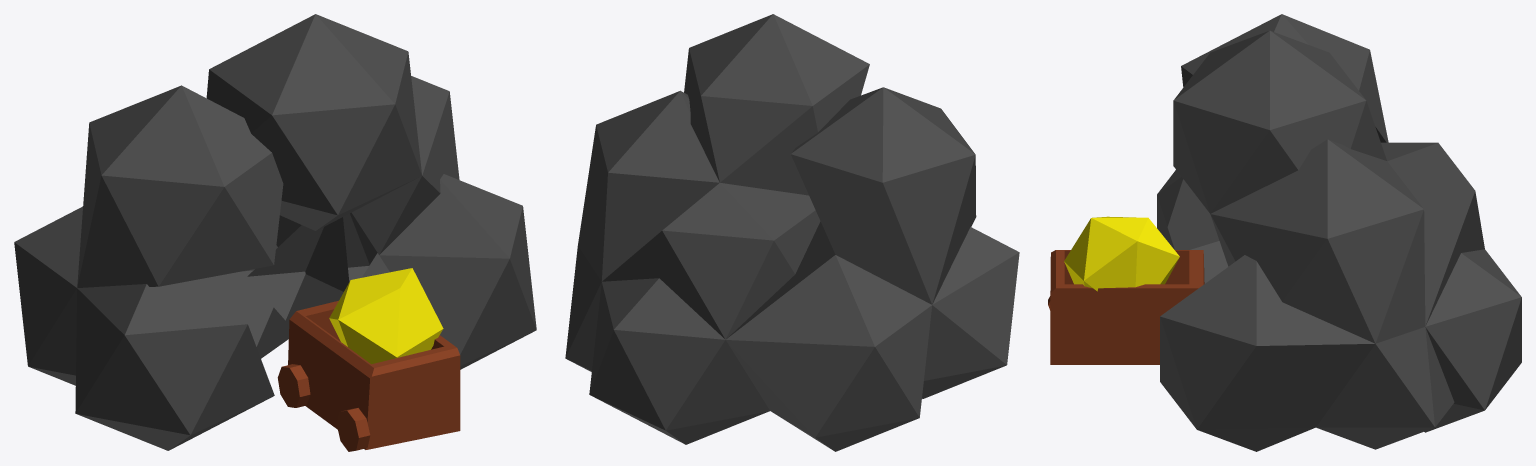
File: mine_tower.fbx
The picture shows the model from 3 angles, left to right: view 1: azimuth 30°, elevation 25°; view 2: azimuth 150°, elevation 25°; view 3: azimuth 270°, elevation 25°; orthographic projection. The views are drawn at different scales.
Parts seen in each view (by area): view 1: cave, cart, gold, wheels, wheel2\; view 2: cave; view 3: cave, cart, gold.
Part boxes in pixels (bbox=[...]): cave: bbox=[14, 14, 536, 450]; cart: bbox=[288, 300, 460, 449]; gold: bbox=[329, 268, 443, 364]; wheels: bbox=[336, 408, 370, 451]; wheel2\: bbox=[277, 364, 310, 407]; cave: bbox=[565, 14, 1019, 451]; cave: bbox=[1157, 14, 1521, 451]; cart: bbox=[1050, 250, 1204, 364]; gold: bbox=[1064, 216, 1179, 291].
Size of the model in its own units: 216 by 192 by 209.
